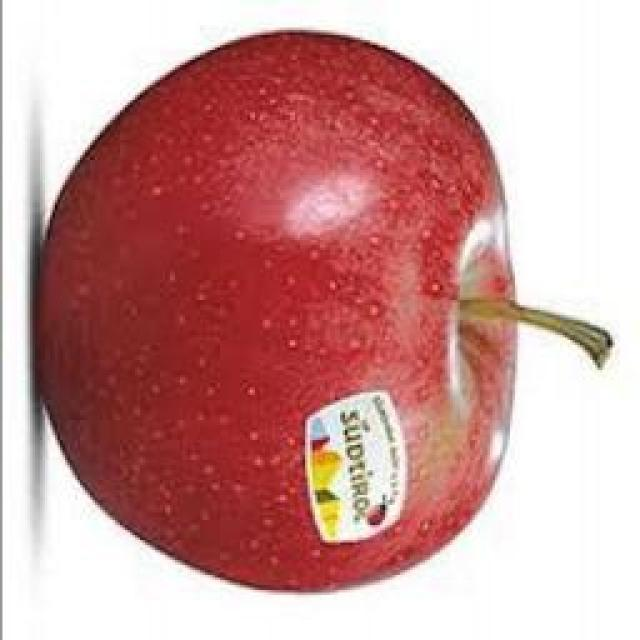apple: (32, 27, 517, 593)
